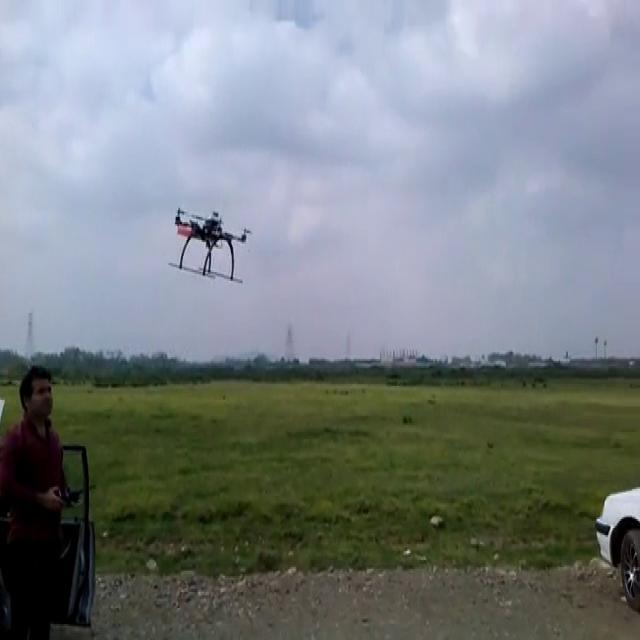drone: (165, 202, 254, 282)
